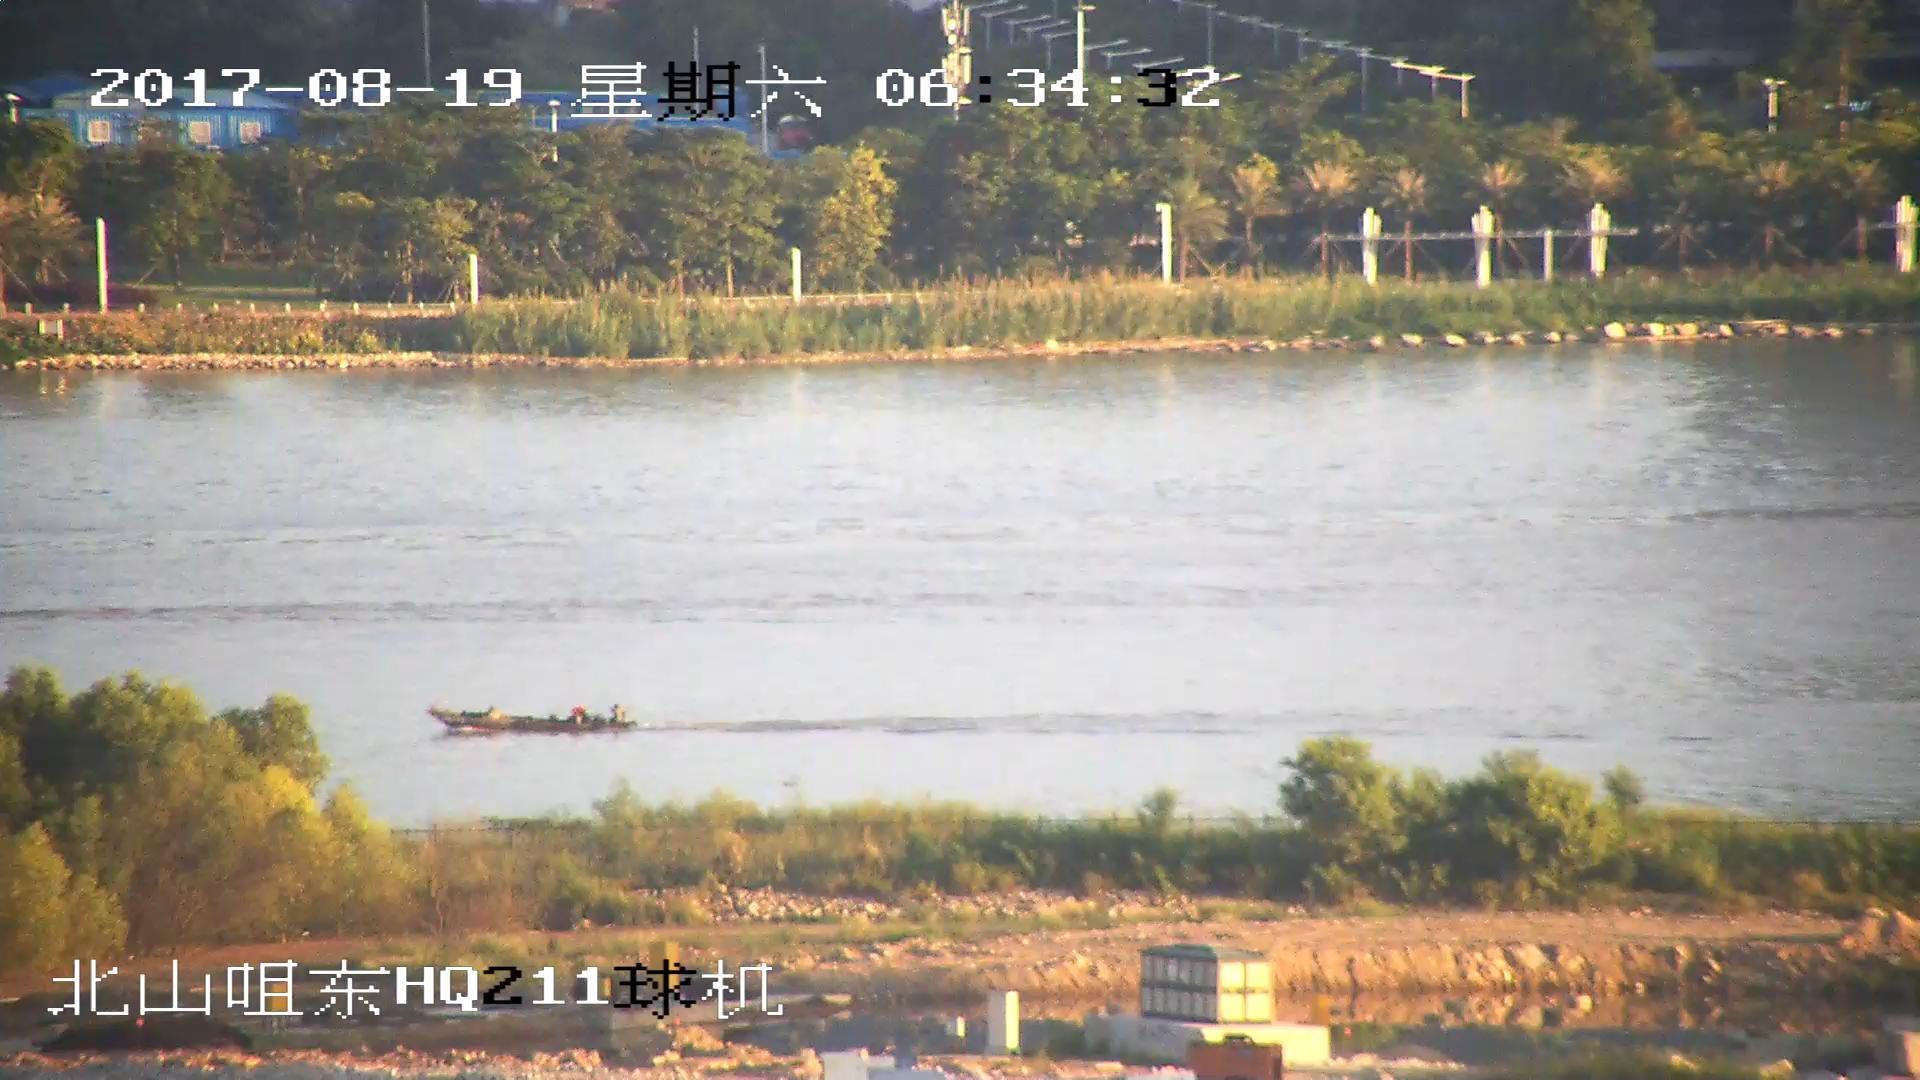fishing boat: (433, 698, 637, 736)
